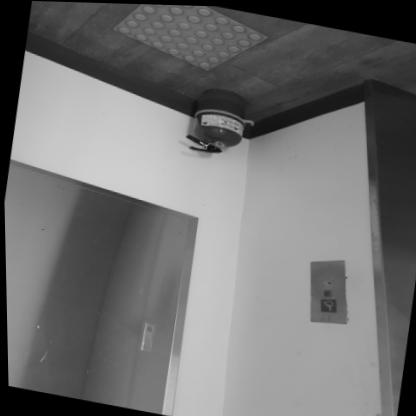FE: (182, 83, 251, 158)
